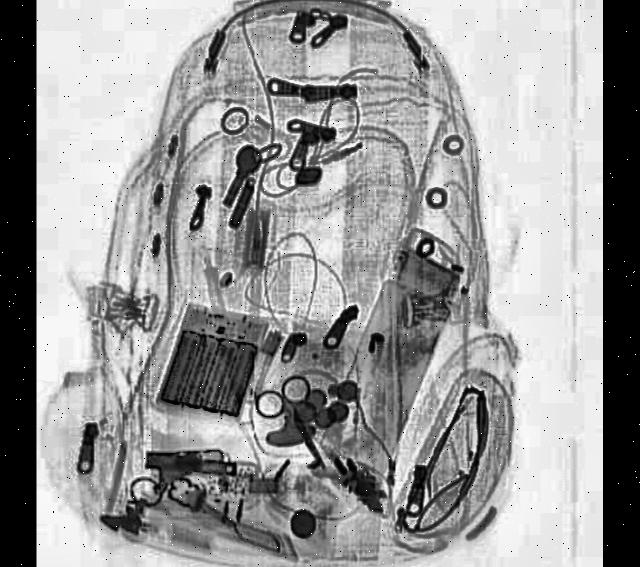Scissors: (250, 360, 345, 489)
